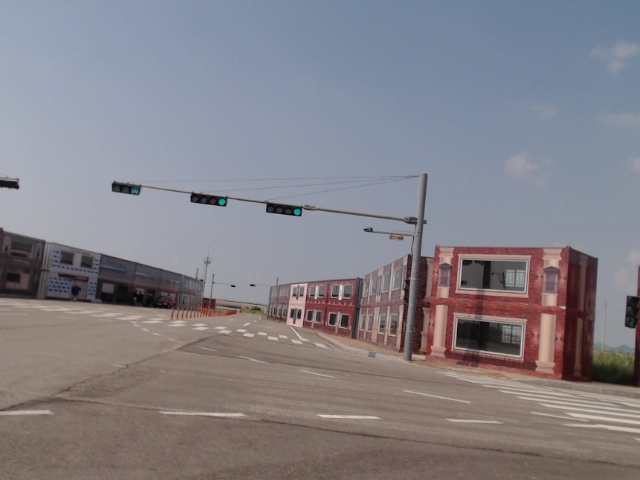straight_green_4: (264, 201, 303, 217), (189, 193, 227, 207)
